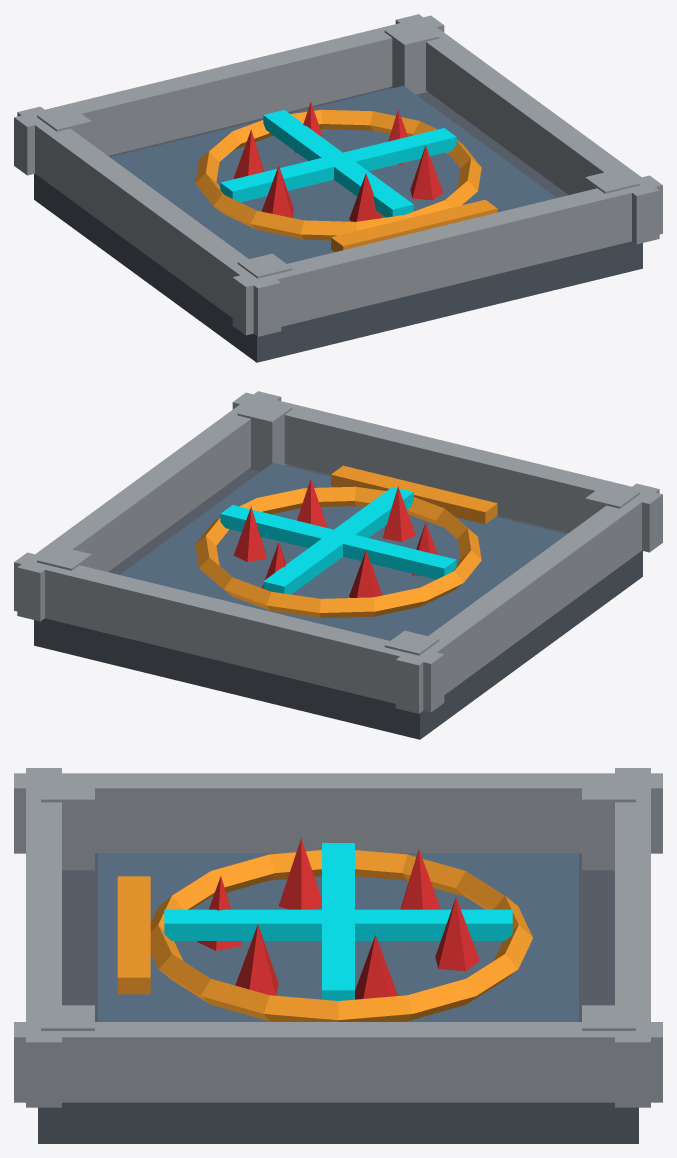
File: TD_TrapTile.fbx
3 renders of one model, top to bottom at view 1: azimuth 30°, elevation 25°; view 2: azimuth 150°, elevation 25°; view 3: azimuth 270°, elevation 25°, orthographic. The views are drawn at different scales.
Parts seen in each view (by area): view 1: TD_TrapTile_Rail_South, TD_TrapTile_Surface, TD_TrapTile_Rail_North, TD_TrapTile_BasePlate, TD_TrapTile_Rail_West, TD_TrapTile_Rail_East, TD_TrapTile_DangerRing, TD_TrapTile_Flow_East, TD_TrapTile_Flow_North, TD_TrapTile_WarningPlate, TD_TrapTile_Corner_NE, TD_TrapTile_Corner_NW (+6 smaller); view 2: TD_TrapTile_Rail_North, TD_TrapTile_Surface, TD_TrapTile_BasePlate, TD_TrapTile_Rail_South, TD_TrapTile_Rail_West, TD_TrapTile_Rail_East, TD_TrapTile_DangerRing, TD_TrapTile_Flow_East, TD_TrapTile_Flow_North, TD_TrapTile_WarningPlate, TD_TrapTile_Corner_SE, TD_TrapTile_Corner_SW (+6 smaller); view 3: TD_TrapTile_Rail_East, TD_TrapTile_Rail_West, TD_TrapTile_Surface, TD_TrapTile_BasePlate, TD_TrapTile_DangerRing, TD_TrapTile_Rail_North, TD_TrapTile_Rail_South, TD_TrapTile_Flow_North, TD_TrapTile_Flow_East, TD_TrapTile_WarningPlate, TD_TrapTile_Corner_NW, TD_TrapTile_Corner_SW (+8 smaller).
Boxes of the visible parts, x1,y1,x2,y2 form: TD_TrapTile_Rail_South: [232, 175, 662, 335]; TD_TrapTile_Surface: [110, 85, 556, 263]; TD_TrapTile_Rail_North: [14, 15, 444, 175]; TD_TrapTile_BasePlate: [34, 87, 642, 362]; TD_TrapTile_Rail_West: [17, 106, 281, 336]; TD_TrapTile_Rail_East: [395, 14, 659, 244]; TD_TrapTile_DangerRing: [195, 109, 481, 240]; TD_TrapTile_Flow_East: [220, 128, 456, 202]; TD_TrapTile_Flow_North: [263, 110, 413, 217]; TD_TrapTile_WarningPlate: [331, 199, 497, 251]; TD_TrapTile_Corner_NE: [384, 22, 439, 94]; TD_TrapTile_Corner_NW: [37, 106, 91, 143]; TD_TrapTile_Rail_North: [14, 552, 444, 712]; TD_TrapTile_Surface: [120, 462, 566, 640]; TD_TrapTile_BasePlate: [34, 464, 642, 739]; TD_TrapTile_Rail_South: [232, 392, 662, 552]; TD_TrapTile_Rail_West: [395, 483, 659, 713]; TD_TrapTile_Rail_East: [17, 391, 281, 621]; TD_TrapTile_DangerRing: [195, 486, 481, 618]; TD_TrapTile_Flow_East: [220, 505, 456, 579]; TD_TrapTile_Flow_North: [263, 487, 413, 594]; TD_TrapTile_WarningPlate: [331, 465, 497, 524]; TD_TrapTile_Corner_SE: [237, 399, 292, 471]; TD_TrapTile_Corner_SW: [585, 483, 639, 520]; TD_TrapTile_Rail_East: [14, 1022, 662, 1102]; TD_TrapTile_Rail_West: [14, 773, 662, 853]; TD_TrapTile_Surface: [98, 854, 578, 1021]; TD_TrapTile_BasePlate: [38, 853, 638, 1143]; TD_TrapTile_DangerRing: [150, 850, 532, 1021]; TD_TrapTile_Rail_North: [615, 768, 650, 1107]; TD_TrapTile_Rail_South: [26, 768, 61, 1107]; TD_TrapTile_Flow_North: [164, 909, 512, 940]; TD_TrapTile_Flow_East: [322, 843, 354, 1000]; TD_TrapTile_WarningPlate: [117, 876, 150, 994]; TD_TrapTile_Corner_NW: [582, 776, 635, 870]; TD_TrapTile_Corner_SW: [41, 776, 94, 870].
Bounding box in the file's own units: 108 × 24 × 108.
